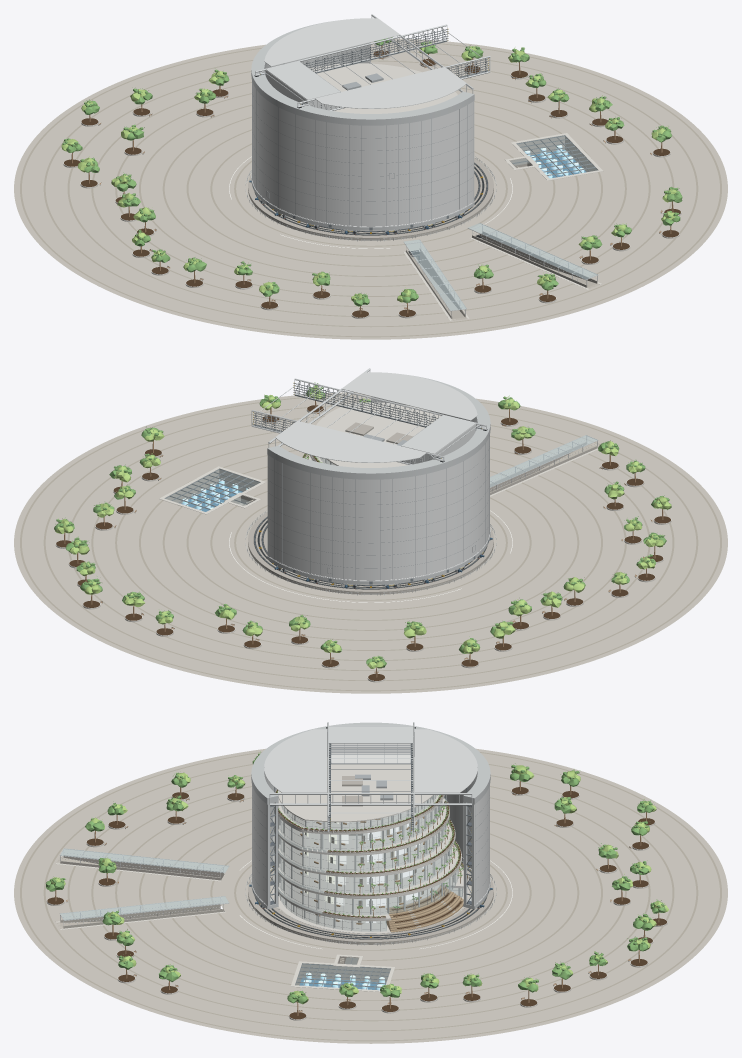
The model's file is q11a-rotating-shell-shelter.glb.
3 renders of one model, top to bottom at view 1: azimuth 30°, elevation 25°; view 2: azimuth 150°, elevation 25°; view 3: azimuth 270°, elevation 25°, orthographic.
Visible parts, largest first — view 1: PLAZA_GROUND, SHELL_BODY, ROOF_FRAME, PASSAGES_FIXED, BATTERY_ROOM, FOUNDATION_RING, BUILDING_STRUCTURE, TRACK_RAILS; view 2: PLAZA_GROUND, SHELL_BODY, ROOF_FRAME, BUILDING_STRUCTURE, BATTERY_ROOM, FOUNDATION_RING, PASSAGES_FIXED, TRACK_RAILS; view 3: PLAZA_GROUND, BUILDING_STRUCTURE, ROOF_FRAME, SHELL_BODY, PASSAGES_FIXED, BUILDING_TERRACES, FOUNDATION_RING, BATTERY_ROOM, TRACK_RAILS, ROOF.
Part boxes in pixels (x1,y1,x2,y2): PLAZA_GROUND: (14,37,727,339); SHELL_BODY: (251,21,474,230); ROOF_FRAME: (254,14,490,110); PASSAGES_FIXED: (403,223,601,320); BATTERY_ROOM: (505,133,603,180); FOUNDATION_RING: (248,158,493,250); BUILDING_STRUCTURE: (309,63,457,113); TRACK_RAILS: (245,157,496,241); PLAZA_GROUND: (14,382,727,693); SHELL_BODY: (267,375,490,584); ROOF_FRAME: (251,368,487,464); BUILDING_STRUCTURE: (306,402,441,467); BATTERY_ROOM: (159,466,265,514); FOUNDATION_RING: (248,512,493,594); PASSAGES_FIXED: (490,435,598,496); TRACK_RAILS: (245,511,496,595); PLAZA_GROUND: (14,748,727,1043); BUILDING_STRUCTURE: (273,757,468,933); ROOF_FRAME: (264,722,477,832); SHELL_BODY: (251,722,490,909); PASSAGES_FIXED: (56,848,229,929); BUILDING_TERRACES: (273,789,468,919); FOUNDATION_RING: (248,861,493,944); BATTERY_ROOM: (290,954,395,991); TRACK_RAILS: (245,862,496,945); ROOF: (330,743,411,764).
Bounding box in the file's own units: 270 × 68.35 × 270.
